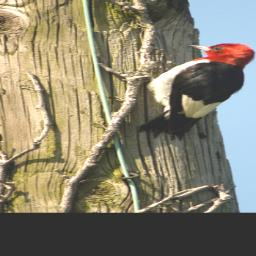Woodpecker: (118, 42, 256, 141)
